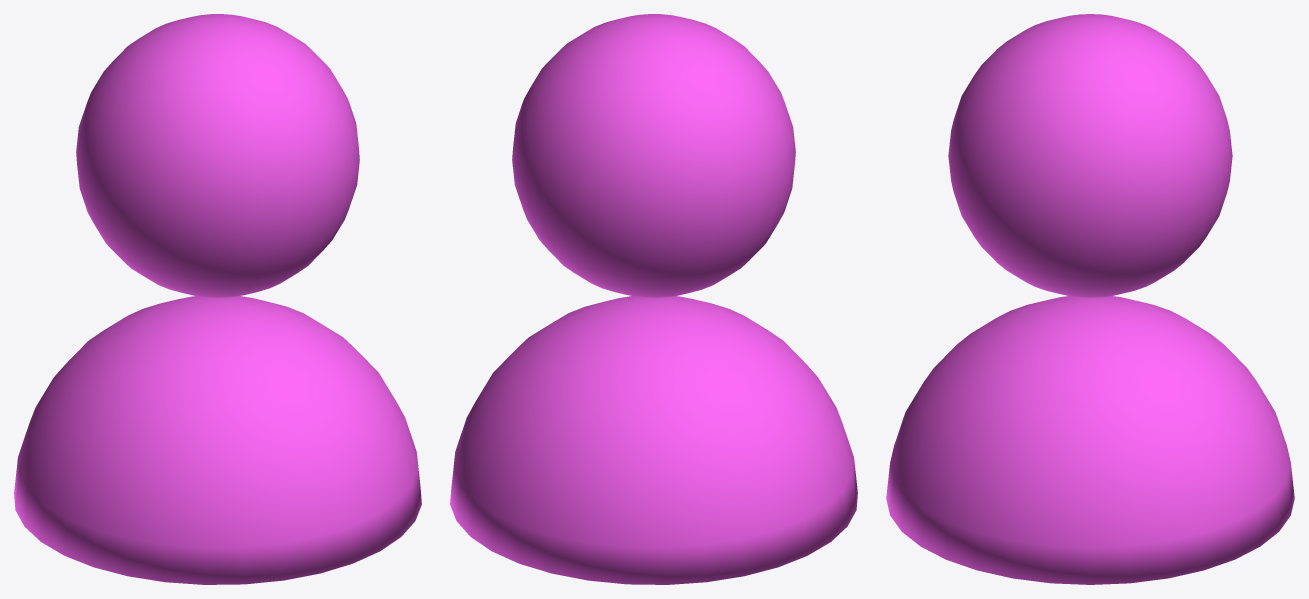
Rendered from profile.glb.
3 renders of one model, left to right at view 1: azimuth 30°, elevation 25°; view 2: azimuth 150°, elevation 25°; view 3: azimuth 270°, elevation 25°, orthographic.
Visible parts, largest first — view 1: Sphere, Sphere.001; view 2: Sphere, Sphere.001; view 3: Sphere, Sphere.001.
Boxes of the visible parts, <box> form: Sphere: <box>14,296,421,584</box>; Sphere.001: <box>76,14,359,297</box>; Sphere: <box>450,296,857,584</box>; Sphere.001: <box>512,14,795,297</box>; Sphere: <box>886,296,1294,584</box>; Sphere.001: <box>948,14,1232,297</box>.
Size of the model in its own units: 2 by 2.55 by 2.
